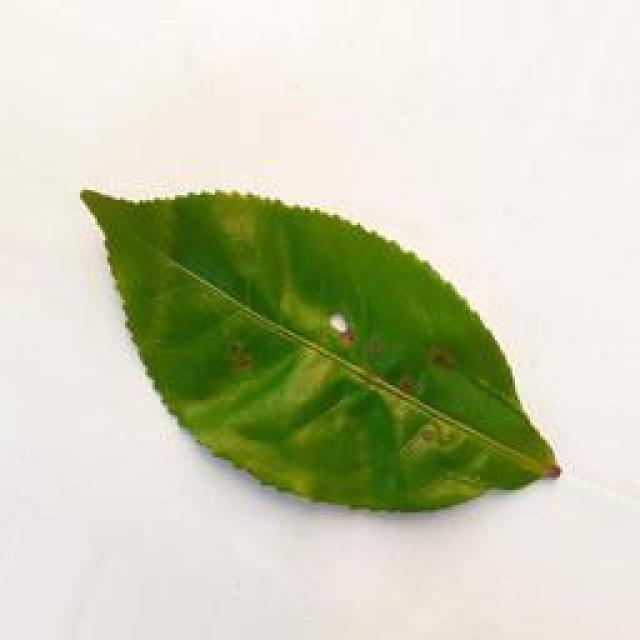Helopeltis: (68, 170, 571, 510)
